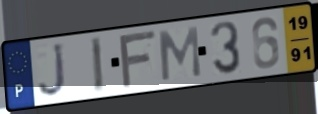3: (209, 20, 243, 77)
6: (250, 16, 282, 71)
F: (117, 28, 159, 91)
I: (89, 35, 106, 95)
J: (36, 41, 69, 100)
M: (157, 24, 203, 83)
